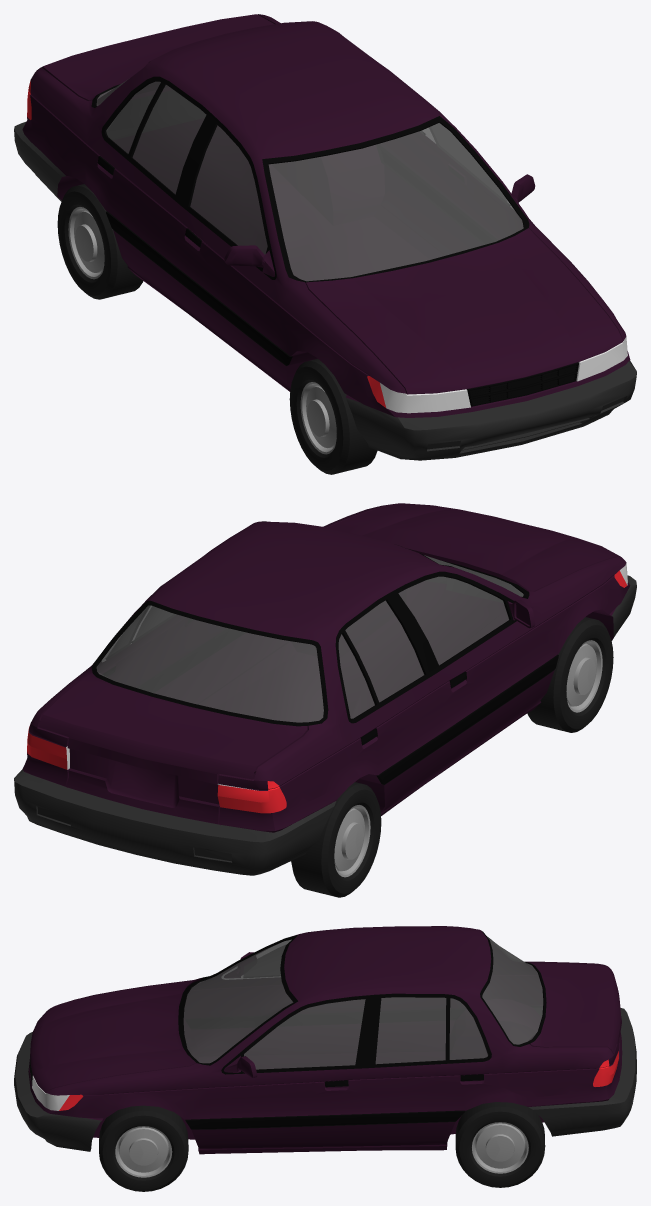
The model's file is auto1.DAE.
3 renders of one model, top to bottom at view 1: azimuth 30°, elevation 25°; view 2: azimuth 150°, elevation 25°; view 3: azimuth 270°, elevation 25°, orthographic. The views are drawn at different scales.
Parts seen in each view (by area): view 1: auto; view 2: auto; view 3: auto.
Boxes of the visible parts, <box> form: auto: <box>14,14,636,474</box>; auto: <box>14,503,636,897</box>; auto: <box>14,926,636,1191</box>.
Bounding box in the file's own units: 2.58 × 1.97 × 5.85.
